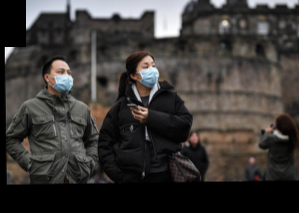with_mask: (48, 65, 74, 94), (136, 59, 160, 88)
without_mask: (188, 130, 199, 144)
